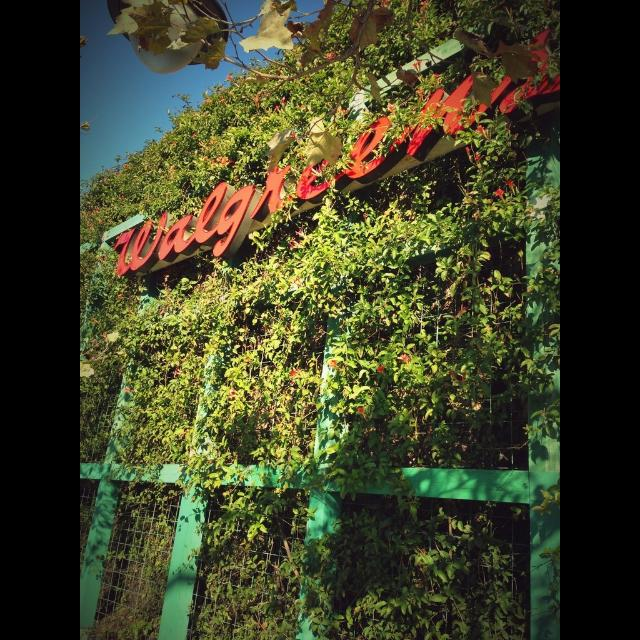Flower: (186, 74, 354, 170), (386, 58, 440, 112), (476, 124, 490, 140), (286, 235, 296, 253), (456, 306, 470, 318), (495, 189, 507, 201), (507, 178, 515, 192), (400, 353, 410, 362), (357, 406, 365, 416), (328, 358, 336, 366), (324, 52, 334, 58), (474, 152, 481, 160), (290, 369, 296, 377), (376, 368, 384, 374), (466, 145, 470, 155)
